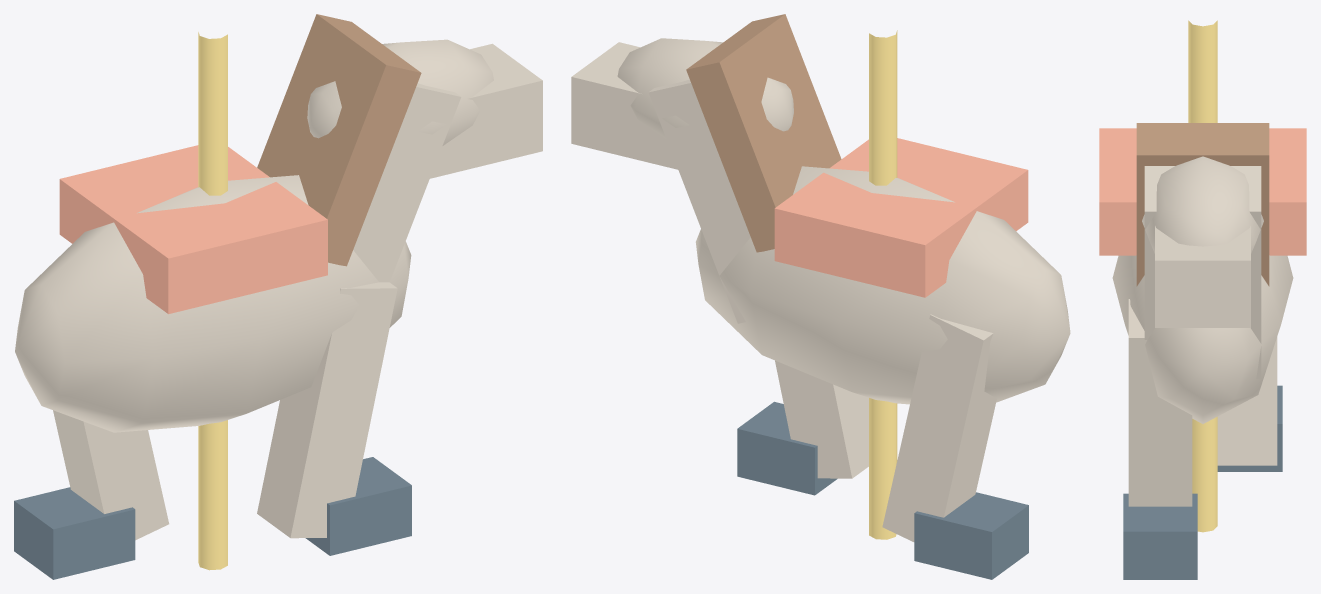
File: park-carousel-horse-pixel-8bit-3d.glb
3 renders of one model, left to right at view 1: azimuth 30°, elevation 25°; view 2: azimuth 150°, elevation 25°; view 3: azimuth 270°, elevation 25°, orthographic. The views are drawn at different scales.
Visible parts, largest first — view 1: body, saddle, mane, leg-front, pole, neck, hoof-back, leg-back, muzzle, head, hoof-front; view 2: body, saddle, mane, leg-back, neck, pole, hoof-back, leg-front, muzzle, head, hoof-front; view 3: body, saddle, leg-front, muzzle, head, mane, hoof-front, pole, leg-back, neck, hoof-back.
Boxes of the visible parts, bbox=[...] form: body: bbox=[15, 175, 411, 432]; saddle: bbox=[59, 145, 327, 314]; mane: bbox=[257, 14, 421, 266]; leg-front: bbox=[257, 282, 397, 538]; pole: bbox=[198, 32, 227, 570]; neck: bbox=[353, 83, 461, 282]; hoof-back: bbox=[14, 487, 135, 579]; leg-back: bbox=[53, 410, 169, 540]; muzzle: bbox=[430, 43, 542, 178]; head: bbox=[307, 39, 493, 145]; hoof-front: bbox=[305, 457, 411, 555]; body: bbox=[695, 166, 1070, 404]; saddle: bbox=[774, 138, 1028, 297]; mane: bbox=[686, 14, 841, 252]; leg-back: bbox=[882, 314, 996, 541]; neck: bbox=[648, 79, 750, 323]; pole: bbox=[869, 30, 897, 539]; hoof-back: bbox=[914, 492, 1028, 579]; leg-front: bbox=[775, 360, 868, 478]; muzzle: bbox=[571, 42, 678, 169]; head: bbox=[617, 38, 793, 138]; hoof-front: bbox=[737, 401, 837, 495]; body: bbox=[1112, 255, 1293, 423]; saddle: bbox=[1099, 128, 1306, 255]; leg-front: bbox=[1128, 299, 1192, 506]; muzzle: bbox=[1155, 226, 1250, 327]; head: bbox=[1142, 156, 1263, 253]; mane: bbox=[1136, 123, 1269, 286]; hoof-front: bbox=[1123, 493, 1197, 579]; pole: bbox=[1188, 20, 1217, 532]; leg-back: bbox=[1217, 337, 1277, 465]; neck: bbox=[1144, 166, 1261, 378]; hoof-back: bbox=[1217, 385, 1282, 471].
Bounding box in the file's own units: 2.08 × 2.1 × 0.78.
